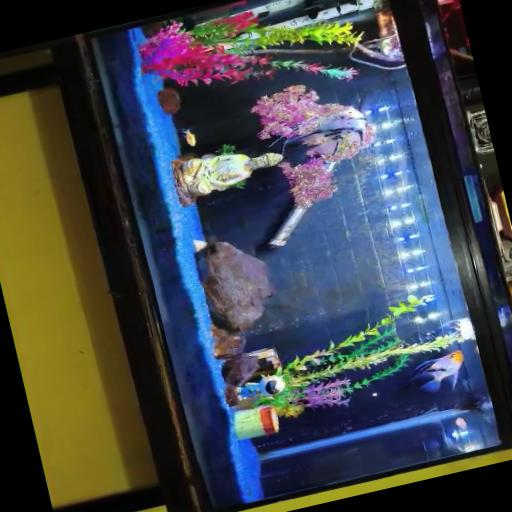Fish: (269, 106, 367, 152), (411, 350, 462, 392), (179, 128, 194, 145), (454, 416, 466, 429)
